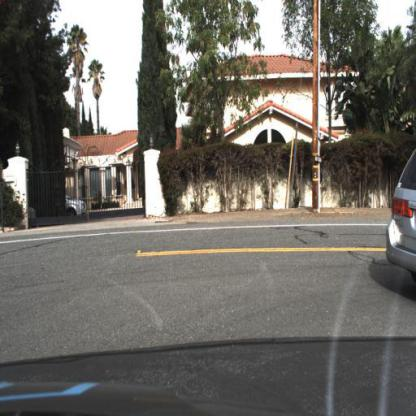car: (386, 136, 416, 310)
